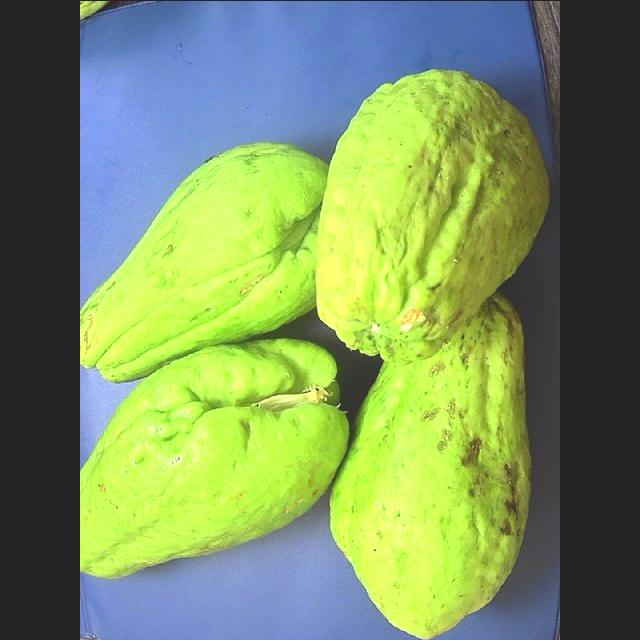chayote: (330, 294, 530, 638), (317, 69, 547, 364), (80, 340, 348, 577), (80, 142, 327, 381)
